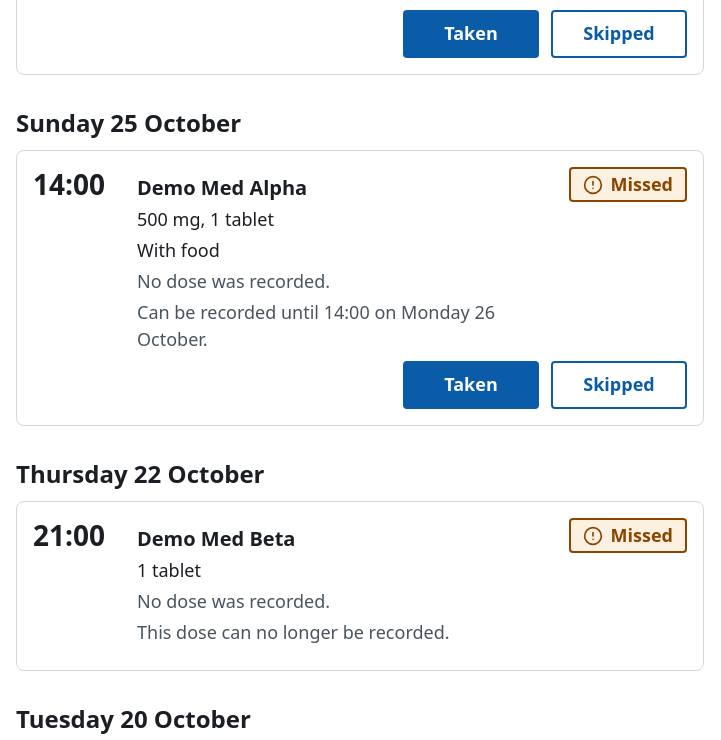
Test: Missed doses page › records a missed dose late and keeps its card after the list leaves it out (AC-24, DD-13)
This screenshot has width=721, height=740.
(page scrolled)
Click the button named "Taken, Demo Med Alpha at 14:00".
click(471, 385)  # box [403,361,539,409]
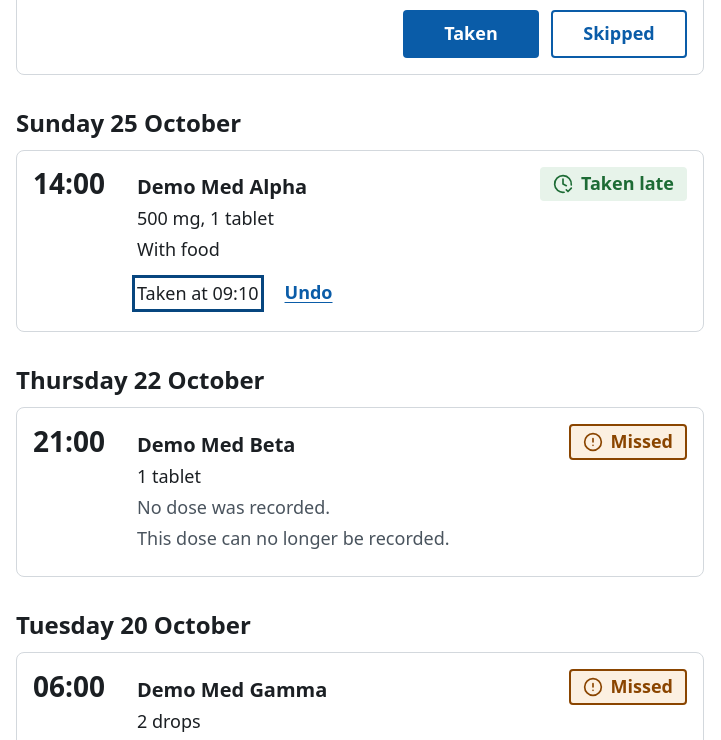
Expected: the text "Taken late" is shown, [540,167,687,201]
